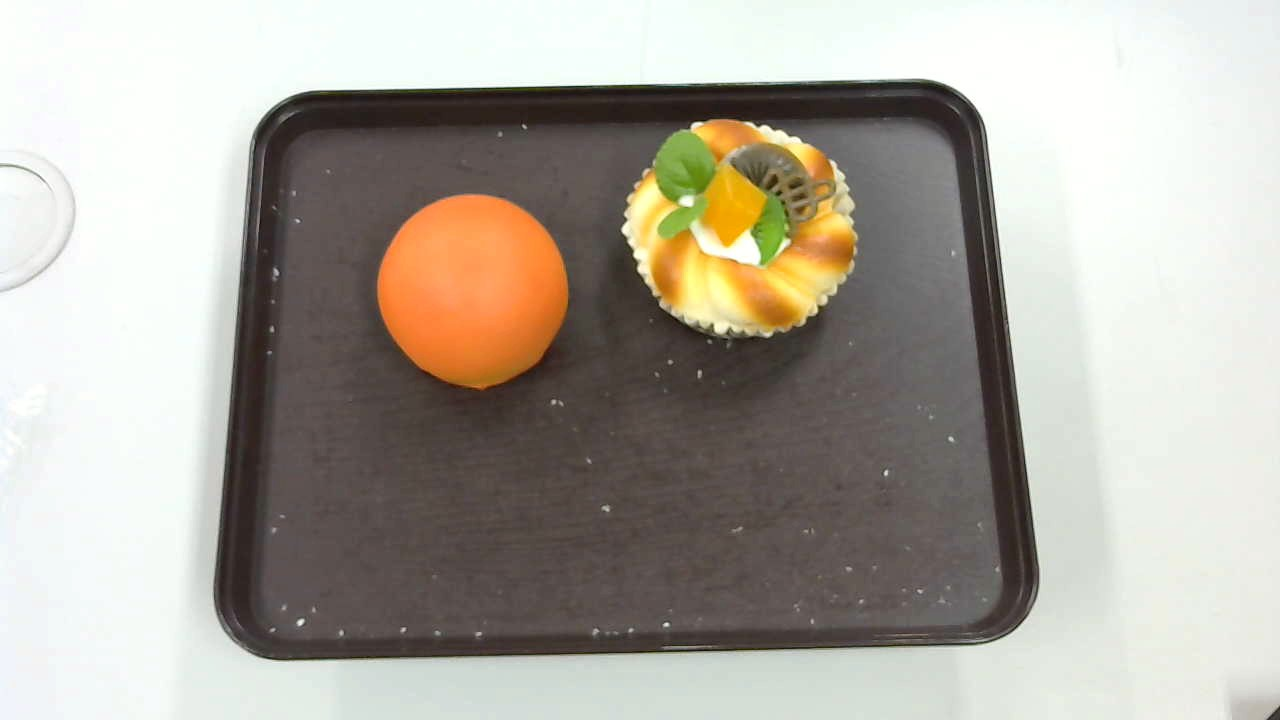bun: (376, 193, 569, 391)
fruit tart: (620, 116, 858, 337)
